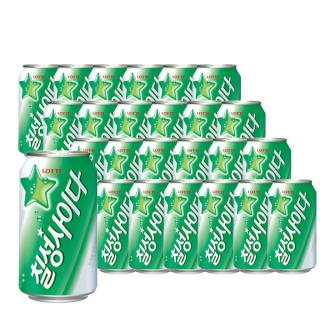cocacola: (18, 150, 98, 307), (268, 179, 317, 274), (198, 180, 240, 274), (164, 178, 205, 274), (235, 180, 275, 276), (98, 179, 136, 274), (131, 178, 168, 274)
